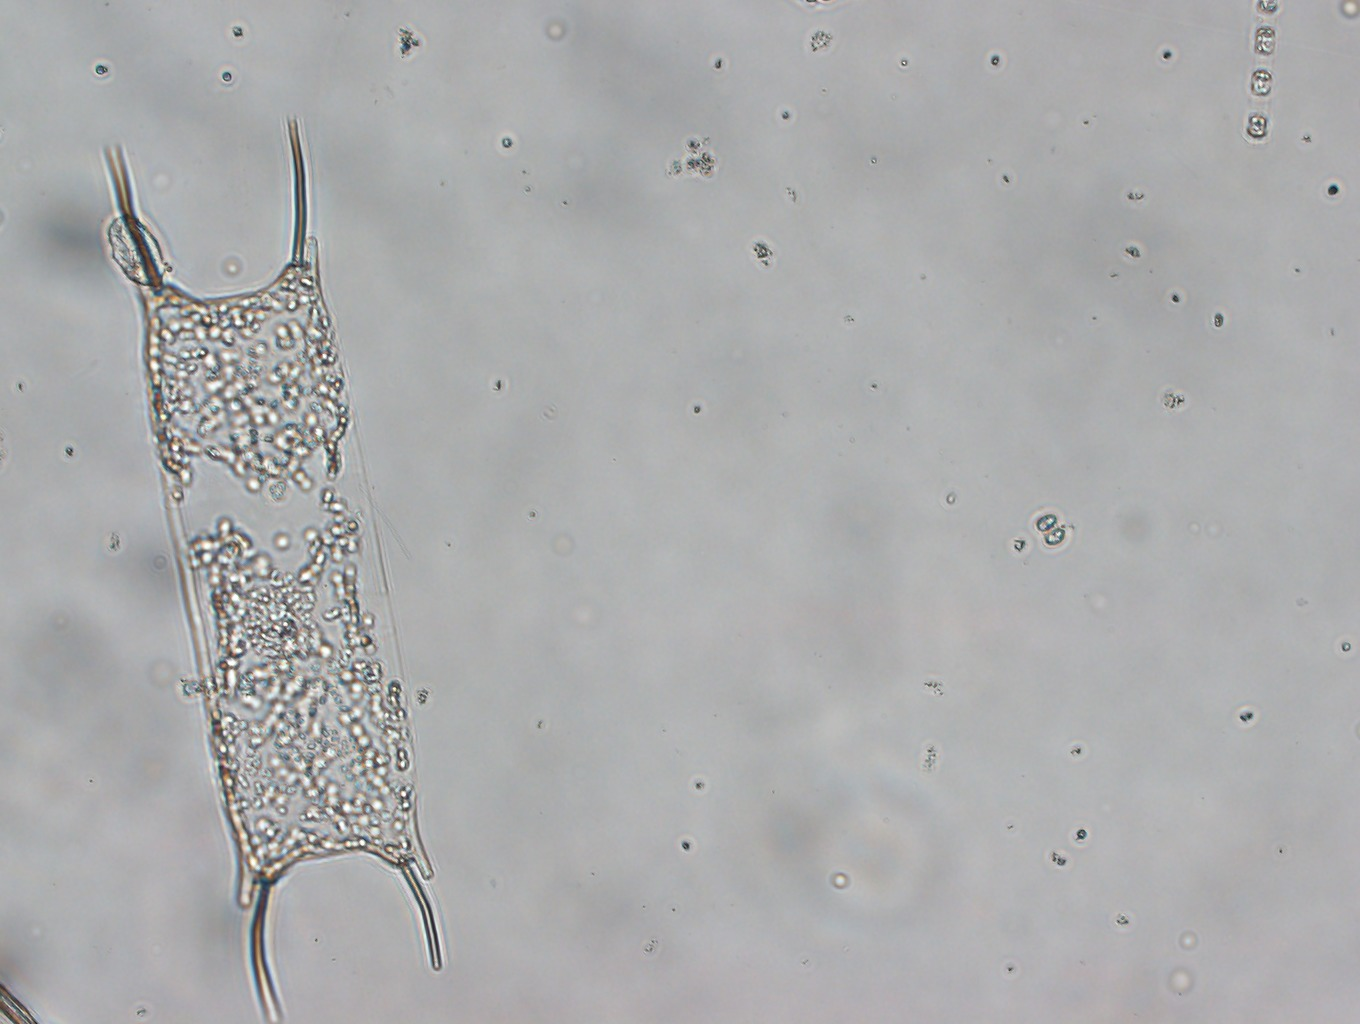biddulphia: (84, 119, 452, 1013)
